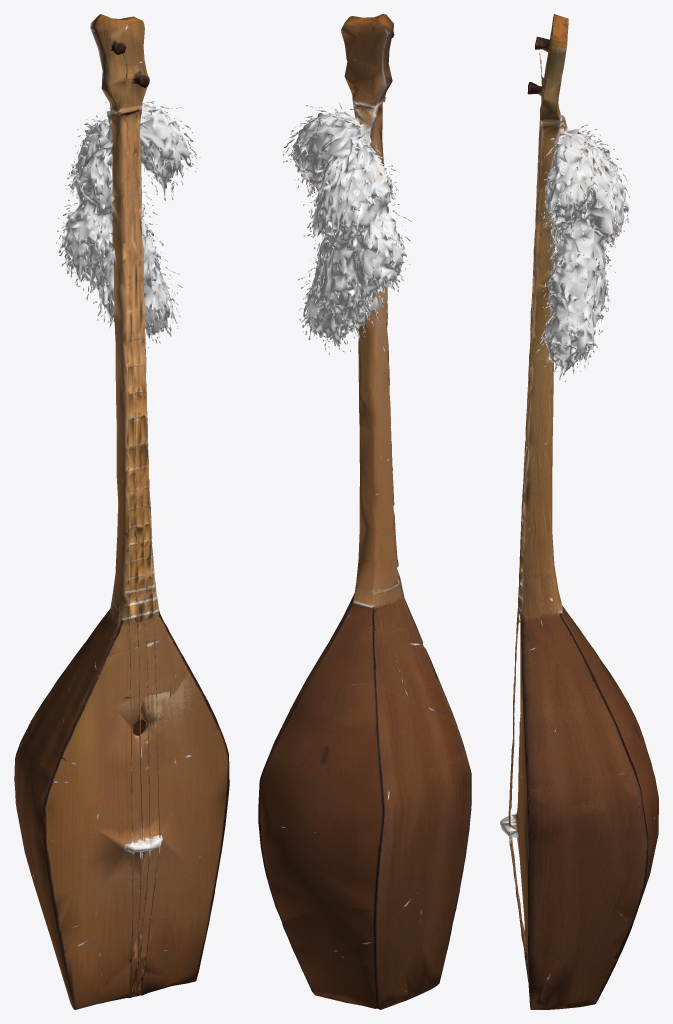
The model's file is dombyra.glb.
3 views of the same model, side by side, from view 1: azimuth 30°, elevation 25°; view 2: azimuth 150°, elevation 25°; view 3: azimuth 270°, elevation 25° (orthographic).
Size of the model in its own units: 0.3748 by 1.9 by 0.2828.
1 material, 1 textured.
